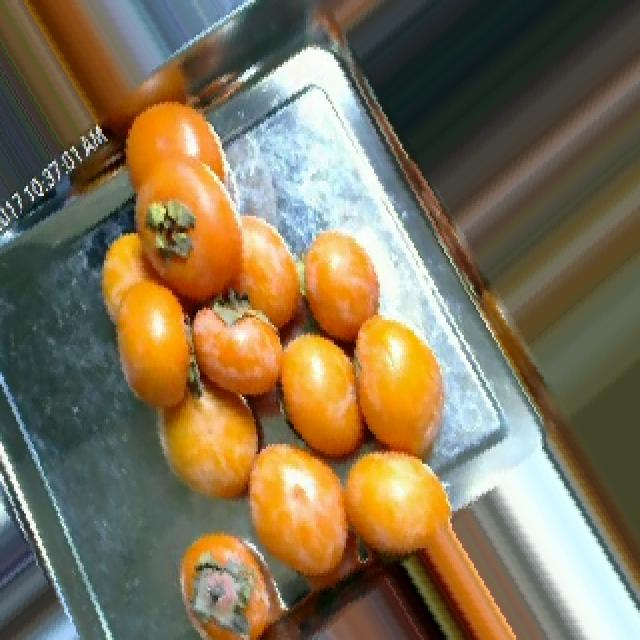Fruit: (80, 206, 242, 412), (164, 513, 296, 640)
